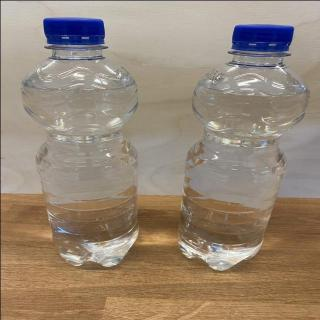Anorganik: (167, 19, 301, 268), (30, 13, 138, 268)
